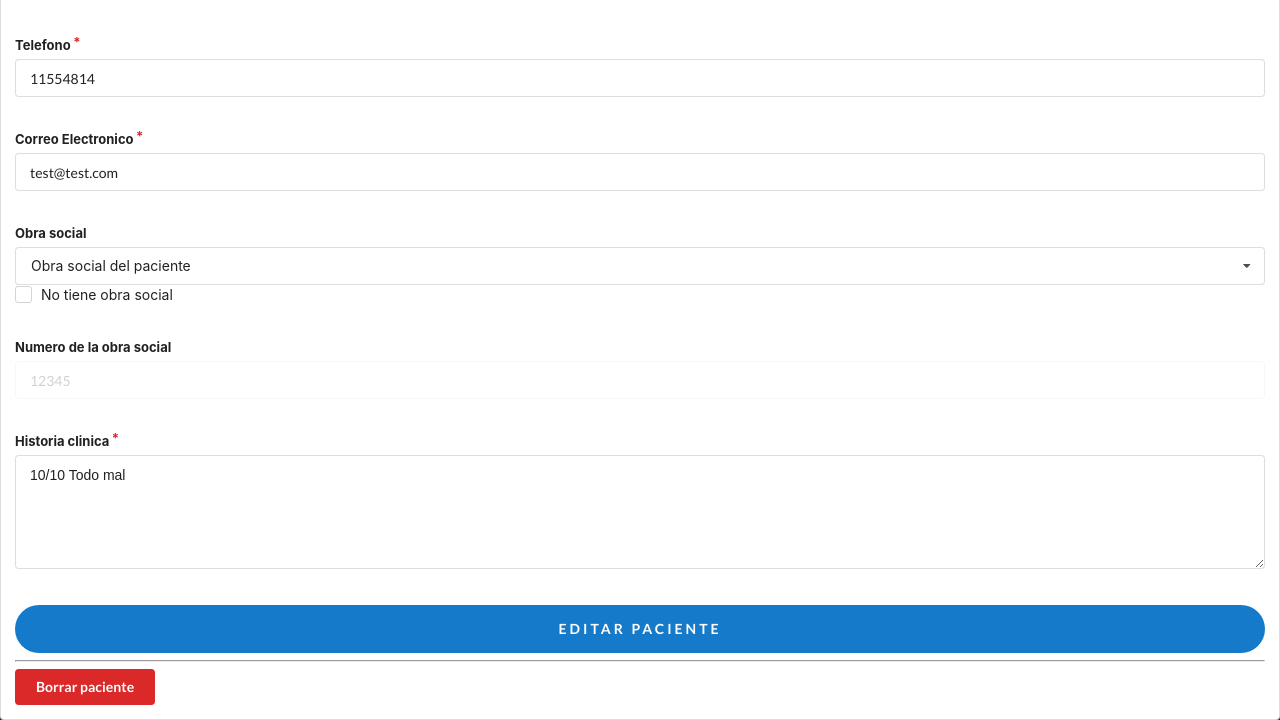
Test: <Single /> › remove of the patient › should display remove dialog when pressingon on button
(page scrolled)
Click the button "Borrar paciente".
click(85, 687)  # box [15,669,155,705]
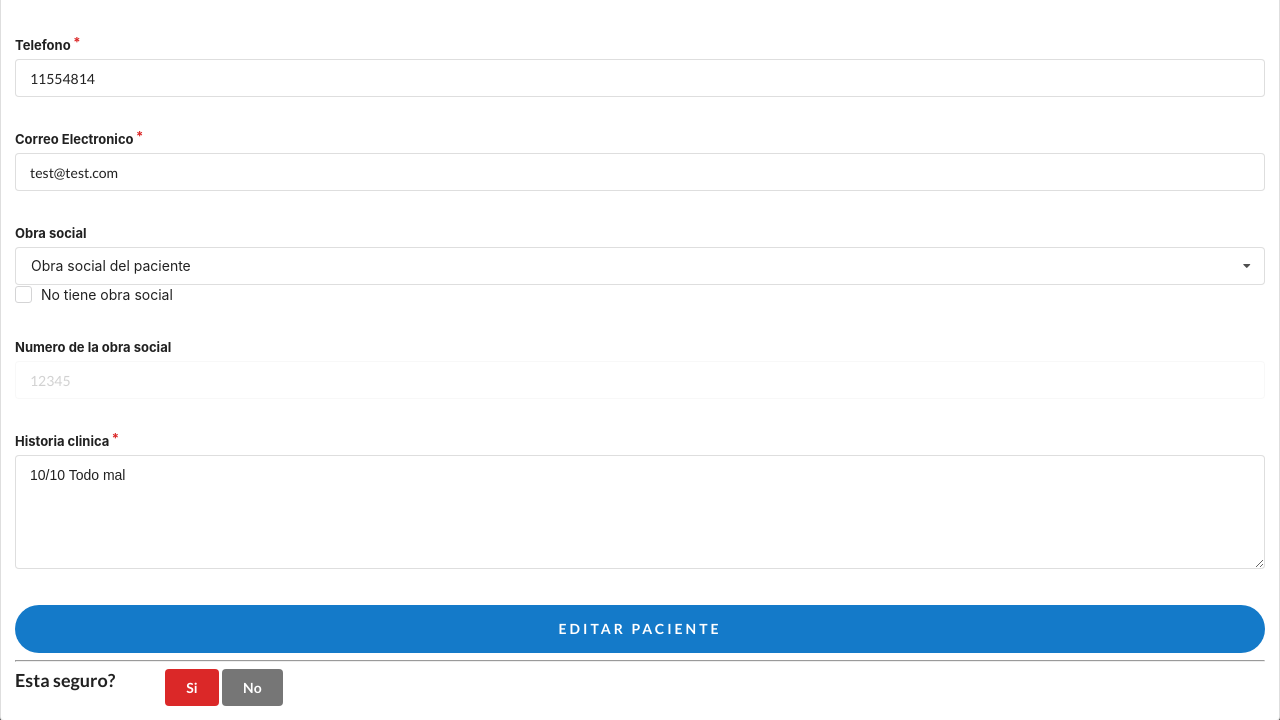
Expected: the button "Si" is shown, [165,669,218,706]
